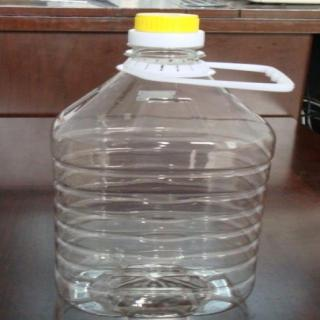Plastic-bottle: (51, 3, 291, 320)
